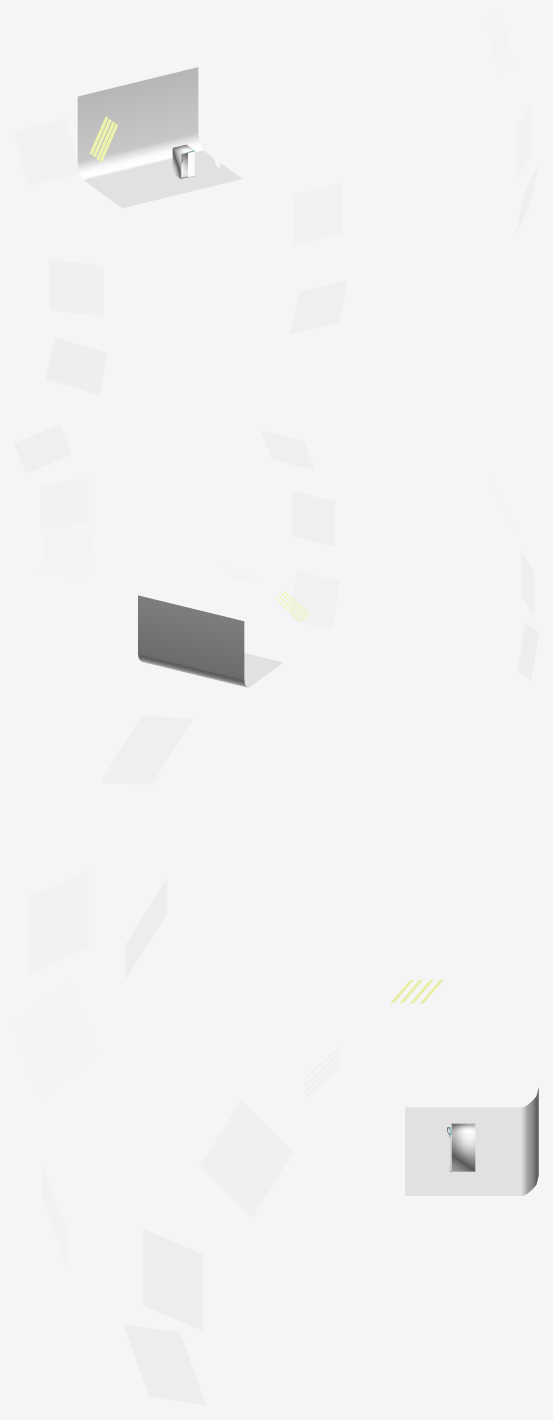
File: Refrigerator.glb
3 renders of one model, top to bottom at view 1: azimuth 30°, elevation 25°; view 2: azimuth 150°, elevation 25°; view 3: azimuth 270°, elevation 25°, orthographic. The views are drawn at different scales.
Visible parts, largest first — view 1: Cube, Plane.021, Plane.019, Plane.015, Plane.013, Plane.018, Plane.016, Plane.020, Plane.014, Plane; view 2: Cube, Plane.017, Plane.014, Plane.016, Plane.013, Plane.020, Plane.019, Plane.018, Plane.015; view 3: Cube, Plane.020, Plane.018, Plane.015, Plane.014, Plane.017, Plane.021, Plane.019, Plane, Plane.016.
Part boxes in pixels (bbox=[...]): Cube: bbox=[77, 67, 241, 208]; Plane.021: bbox=[14, 118, 79, 185]; Plane.019: bbox=[257, 60, 319, 126]; Plane.015: bbox=[49, 259, 103, 316]; Plane.013: bbox=[293, 182, 342, 245]; Plane.018: bbox=[46, 337, 107, 395]; Plane.016: bbox=[290, 280, 347, 333]; Plane.020: bbox=[484, 14, 514, 72]; Plane.014: bbox=[516, 105, 531, 177]; Plane: bbox=[172, 144, 193, 178]; Cube: bbox=[138, 595, 283, 687]; Plane.017: bbox=[39, 526, 94, 578]; Plane.014: bbox=[40, 478, 88, 528]; Plane.016: bbox=[289, 570, 339, 629]; Plane.013: bbox=[292, 491, 335, 546]; Plane.020: bbox=[14, 424, 71, 473]; Plane.019: bbox=[260, 429, 315, 470]; Plane.018: bbox=[517, 623, 538, 680]; Plane.015: bbox=[521, 552, 533, 616]; Cube: bbox=[405, 1087, 538, 1195]; Plane.020: bbox=[200, 1100, 293, 1218]; Plane.018: bbox=[14, 982, 96, 1096]; Plane.015: bbox=[28, 871, 88, 973]; Plane.014: bbox=[143, 1229, 202, 1330]; Plane.017: bbox=[123, 1324, 205, 1405]; Plane.021: bbox=[100, 716, 192, 784]; Plane.019: bbox=[125, 877, 167, 979]; Plane: bbox=[451, 1123, 475, 1171]; Plane.016: bbox=[42, 1163, 68, 1270].
Bounding box in the file's own units: 76.29 × 35.37 × 44.22.
